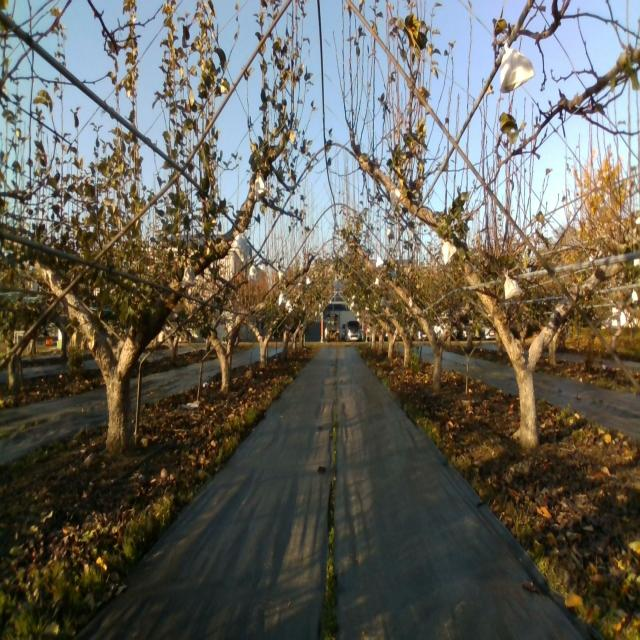pearbags: (500, 36, 536, 90), (503, 268, 523, 301), (230, 230, 247, 264), (440, 237, 458, 267), (182, 262, 196, 288), (387, 187, 402, 210), (254, 172, 265, 203)
